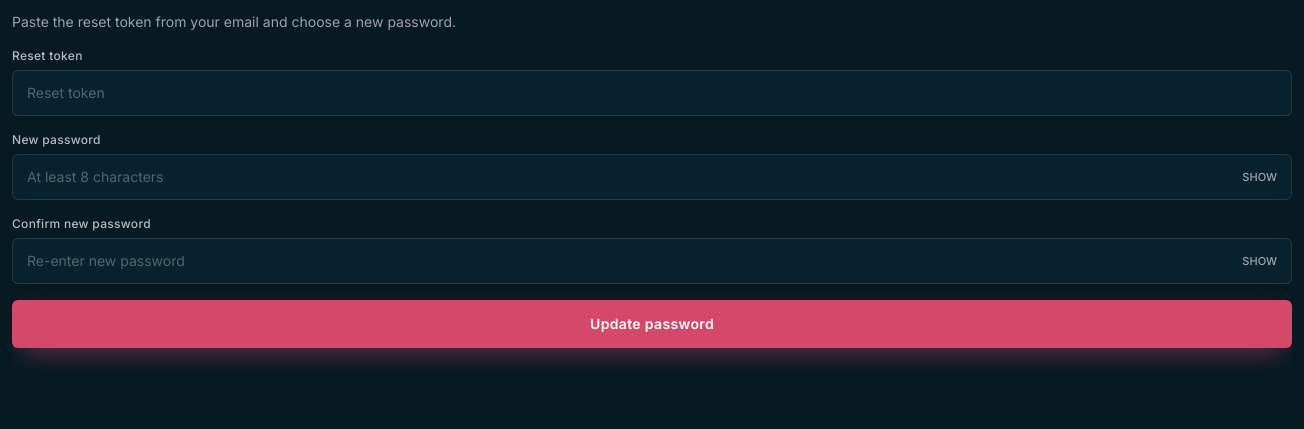
Scenario: ResetPasswordForm › shows validation errors when submitted with empty fields
This screenshot has width=1304, height=429.
Click the button "Update password": (652, 324) [12,300,1292,348]
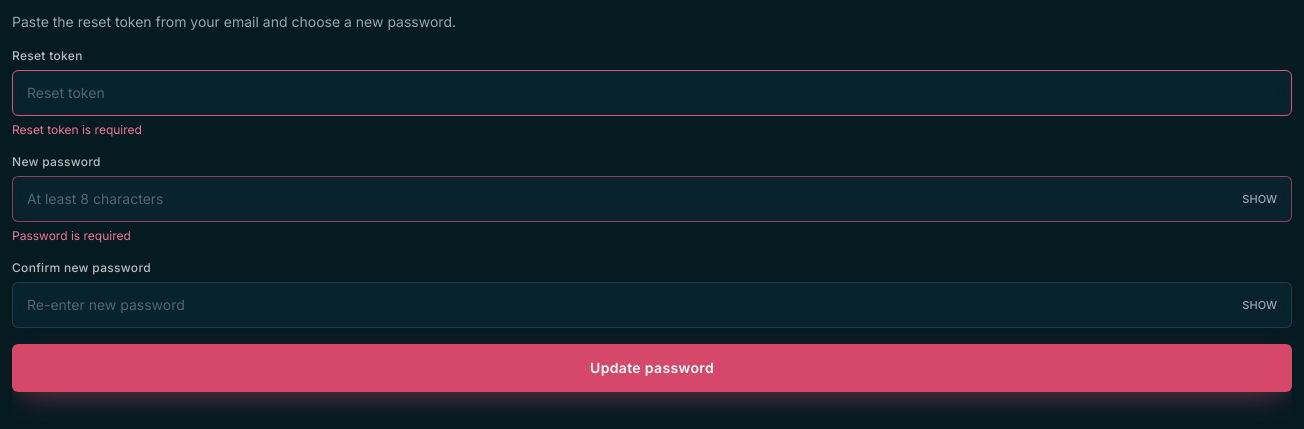
Expected: the text "Reset token is required" is shown, [12,122,142,137]
Expected: the text "Password is required" is shown, [12,228,131,243]
